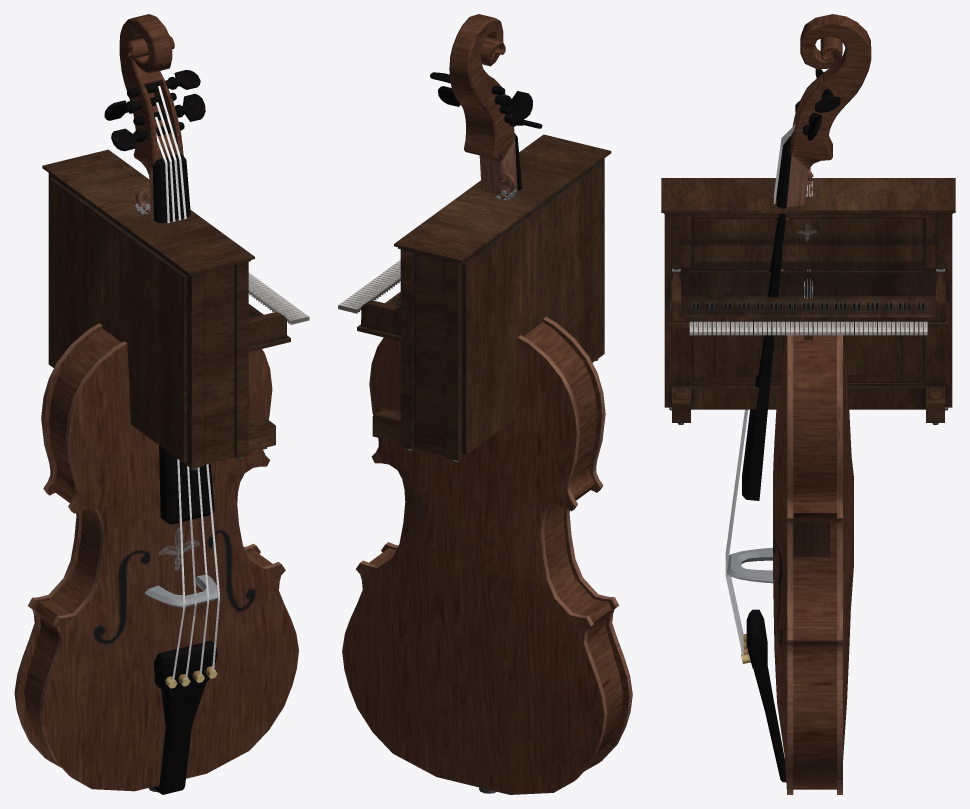
File: instruments--violin---piano----double-ba-3abd06.glb
The picture shows the model from 3 angles, left to right: view 1: azimuth 30°, elevation 25°; view 2: azimuth 150°, elevation 25°; view 3: azimuth 270°, elevation 25°; orthographic projection. The views are drawn at different scales.
Visible parts, largest first — view 1: PropMesh; view 2: PropMesh; view 3: PropMesh.
Boxes of the visible parts, x1,y1,x2,y2 form: PropMesh: (14, 14, 309, 794); PropMesh: (338, 14, 632, 794); PropMesh: (661, 14, 955, 794).
Size of the model in its own units: 0.7735 by 2.2 by 0.764.
3 materials, 3 textured.
